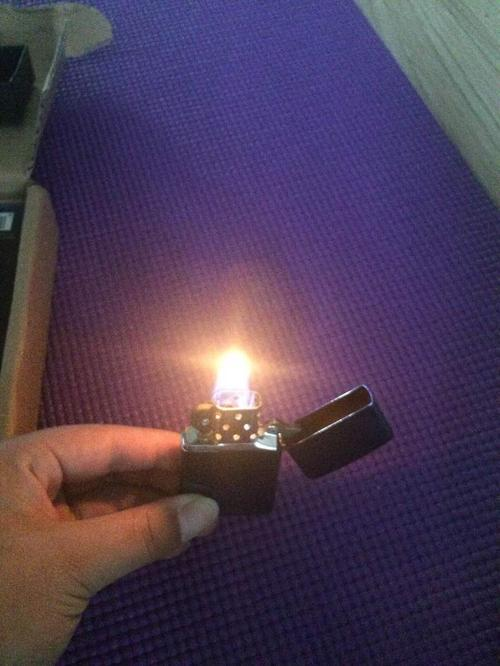fire: (189, 324, 267, 425)
